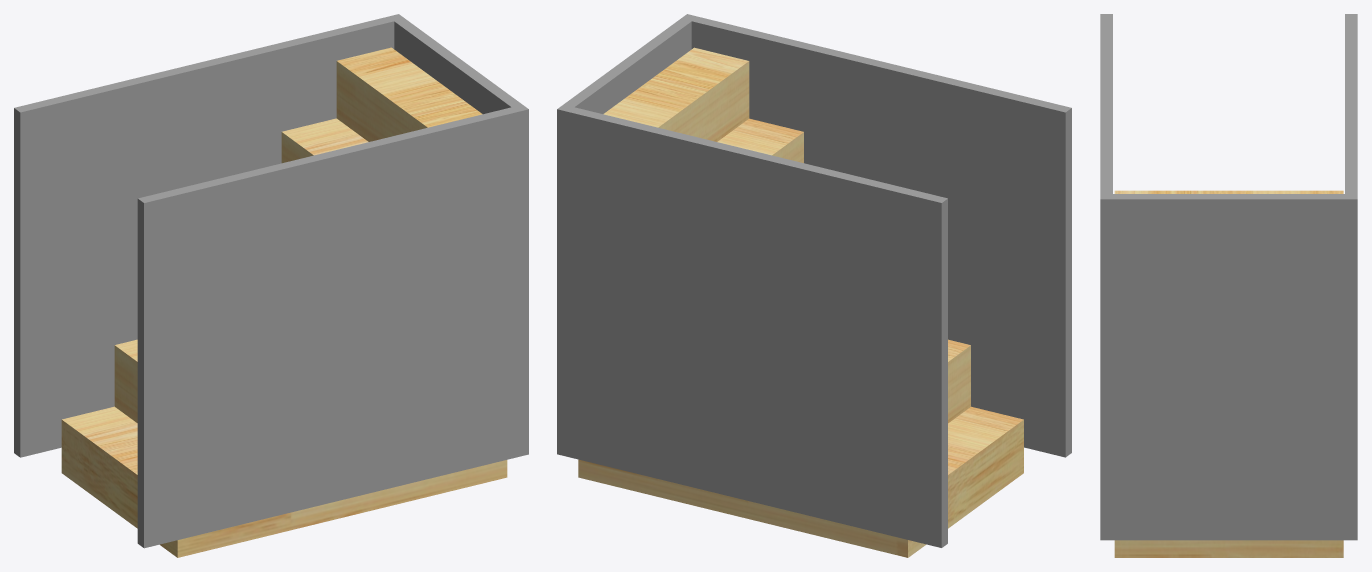
Rendered from Stair.fbx.
The picture shows the model from 3 angles, left to right: view 1: azimuth 30°, elevation 25°; view 2: azimuth 150°, elevation 25°; view 3: azimuth 270°, elevation 25°; orthographic projection.
Parts seen in each view (by area): view 1: pCube26, pCube47, polySurface16, pCube25; view 2: pCube47, pCube26, polySurface16, pCube25; view 3: pCube25, pCube26, polySurface16, pCube47.
Part boxes in pixels (bbox=[...]): pCube26: bbox=[137, 107, 528, 548]; pCube47: bbox=[14, 15, 402, 457]; polySurface16: bbox=[61, 47, 507, 557]; pCube25: bbox=[388, 14, 525, 114]; pCube47: bbox=[557, 104, 947, 547]; pCube26: bbox=[684, 14, 1071, 457]; polySurface16: bbox=[578, 47, 1023, 557]; pCube25: bbox=[557, 16, 694, 456]; pCube25: bbox=[1106, 194, 1357, 540]; pCube26: bbox=[1100, 14, 1112, 540]; polySurface16: bbox=[1114, 190, 1343, 557]; pCube47: bbox=[1345, 14, 1357, 540].
Bounding box in the file's own units: 3.5 × 3.22 × 2.05.
